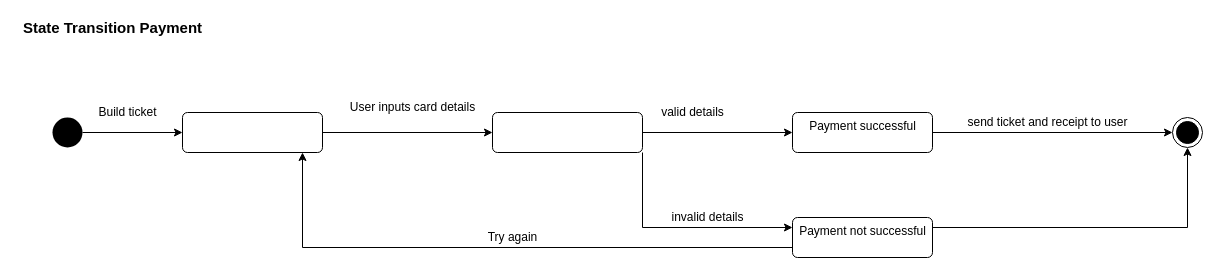
This 1220x275 diagram has some shape labels left out. Here are the shapes that lost their labels. From the top down, the centre of each, then its label:
At point (252, 132): "New Payment".
At point (567, 132): "Validating card Information".
